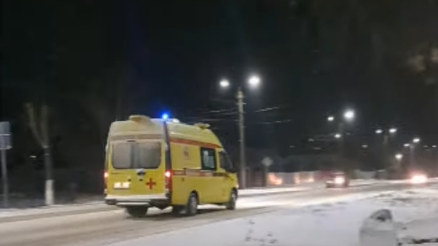intensive care unit: (102, 110, 239, 217)
non emergency car: (324, 170, 349, 189)
